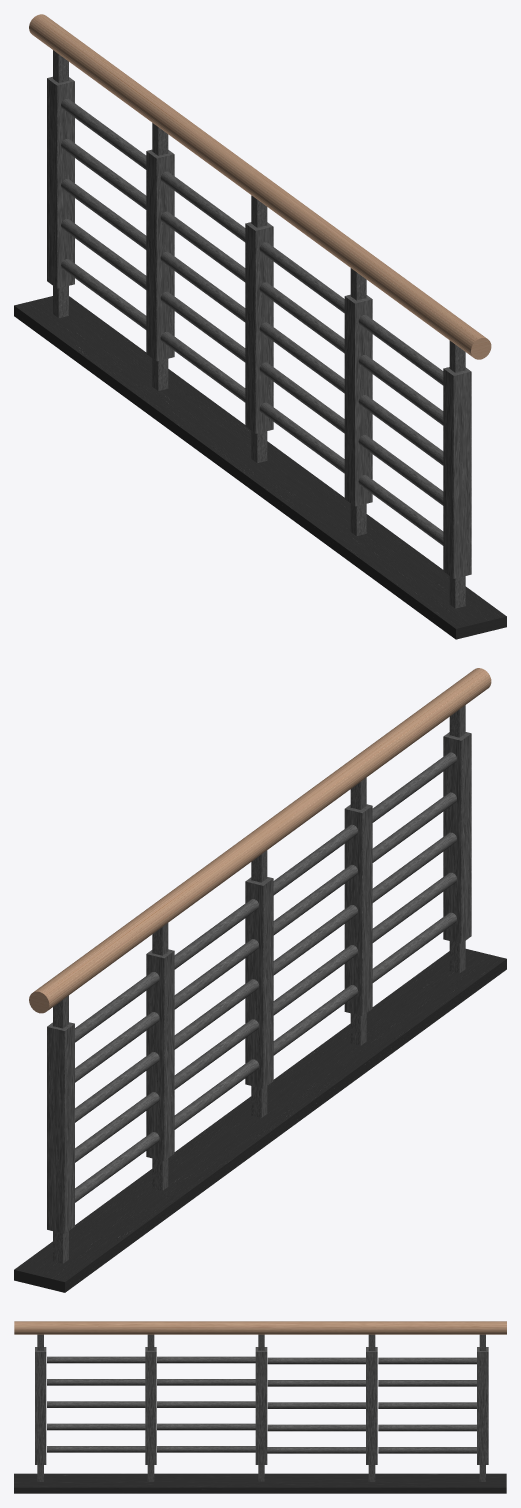
File: handrail.glb
3 views of the same model, one above another, from view 1: azimuth 30°, elevation 25°; view 2: azimuth 150°, elevation 25°; view 3: azimuth 270°, elevation 25° (orthographic). The views are drawn at different scales.
Visible parts, largest first — view 1: HandrailReal; view 2: HandrailReal; view 3: HandrailReal.
Boxes of the visible parts, x1,y1,x2,y2 form: HandrailReal: (14,14,506,639); HandrailReal: (14,668,506,1292); HandrailReal: (14,1321,506,1493).
Bounding box in the file's own units: 2 × 11.05 × 30.02.
3 materials, 3 textured.
